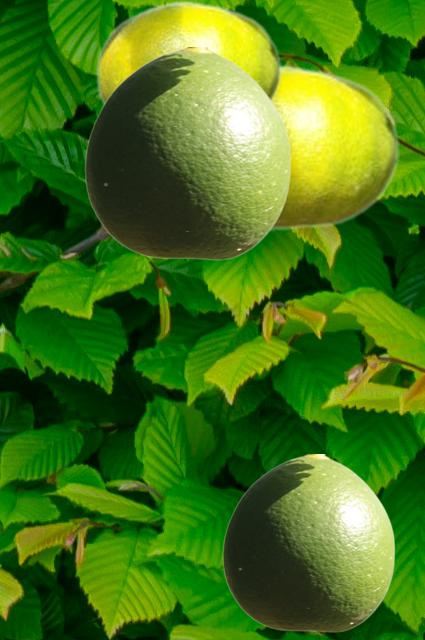dalandan: (84, 47, 290, 259), (222, 454, 394, 631), (270, 64, 398, 232), (95, 0, 280, 106)
